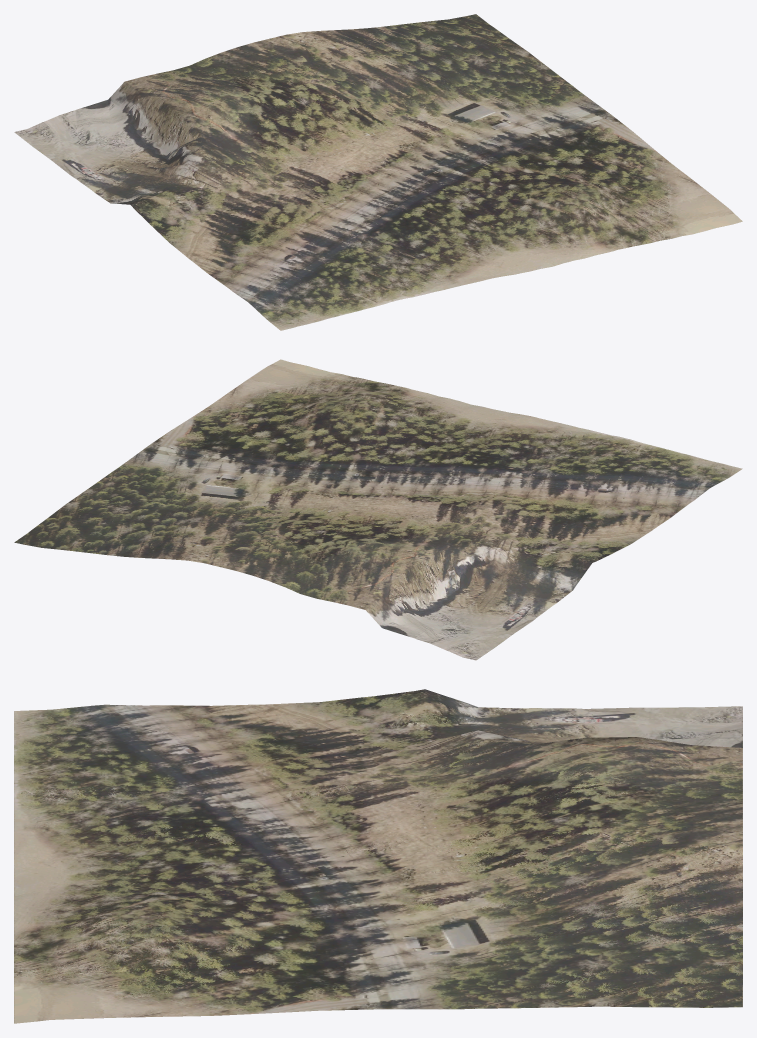
Rendered from CM_Terrain_24493326_6815903.fbx.
The picture shows the model from 3 angles, top to bottom: view 1: azimuth 30°, elevation 25°; view 2: azimuth 150°, elevation 25°; view 3: azimuth 270°, elevation 25°; orthographic projection. The views are drawn at different scales.
Parts seen in each view (by area): view 1: CM_Terrain_24493326_6815903_LOD0; view 2: CM_Terrain_24493326_6815903_LOD0; view 3: CM_Terrain_24493326_6815903_LOD0.
Boxes of the visible parts, <box> form: CM_Terrain_24493326_6815903_LOD0: <box>14,14,742,330</box>; CM_Terrain_24493326_6815903_LOD0: <box>14,359,742,660</box>; CM_Terrain_24493326_6815903_LOD0: <box>14,689,742,1023</box>.
Size of what is drawn, in the model's own units: 205 by 17.53 by 205.
